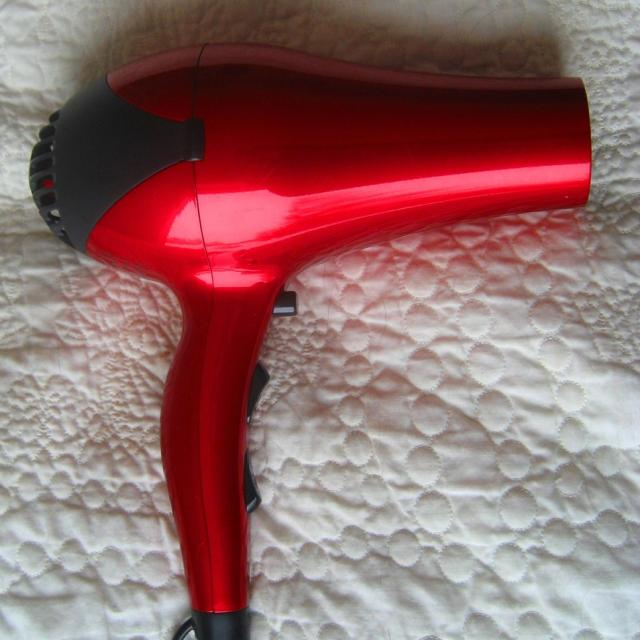dryer: (22, 23, 604, 628)
